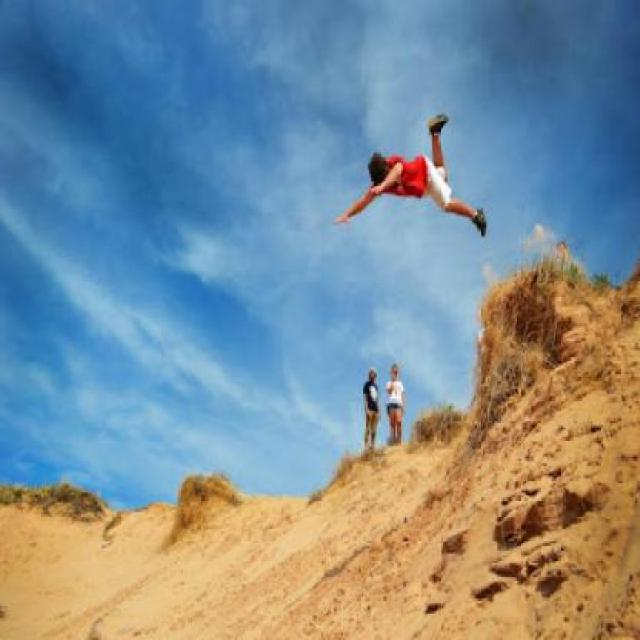fall: (334, 105, 494, 240)
